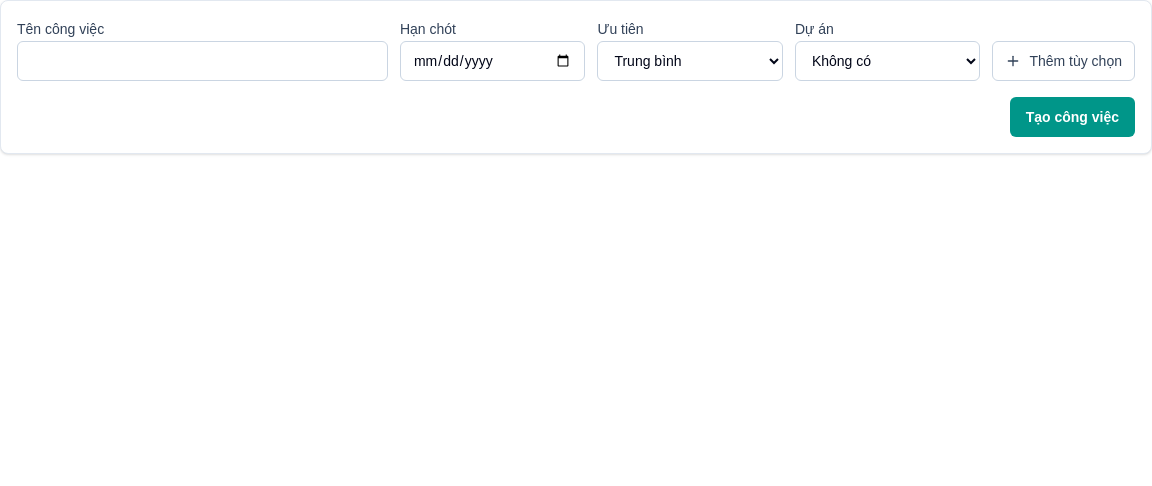
Scenario: QuickAddTask › reveals advanced fields and reminder controls after expanding options
Click the button "Thêm tùy chọn" at (1064,61), box x1=992 y1=41 x2=1135 y2=81
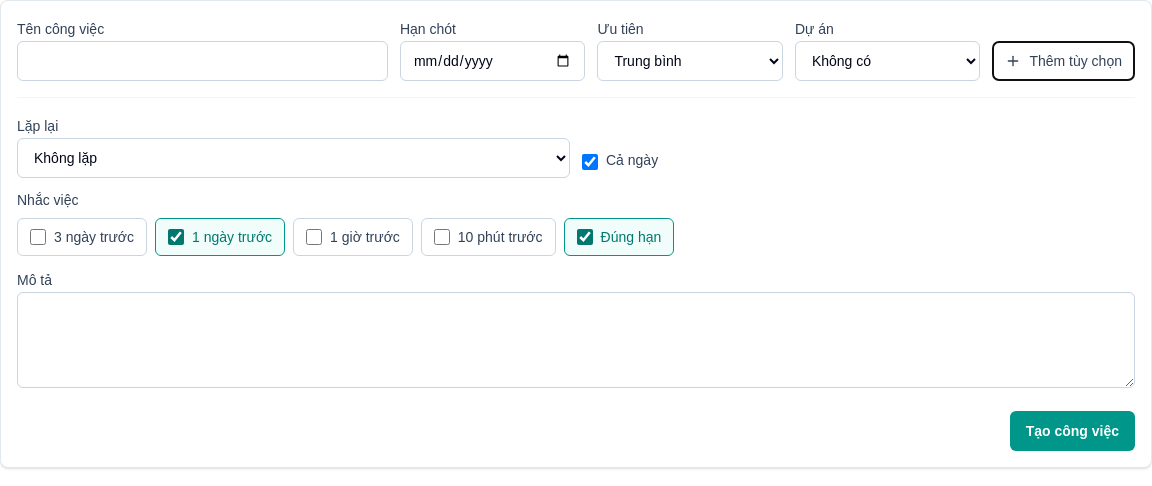
Now the text box labelled "Mô tả" is shown, box x1=17 y1=292 x2=1135 y2=388
Now the dropdown labelled "Lặp lại" is enabled, box x1=17 y1=138 x2=570 y2=178
Now the element "Nhắc việc" is shown, box x1=17 y1=192 x2=674 y2=256
